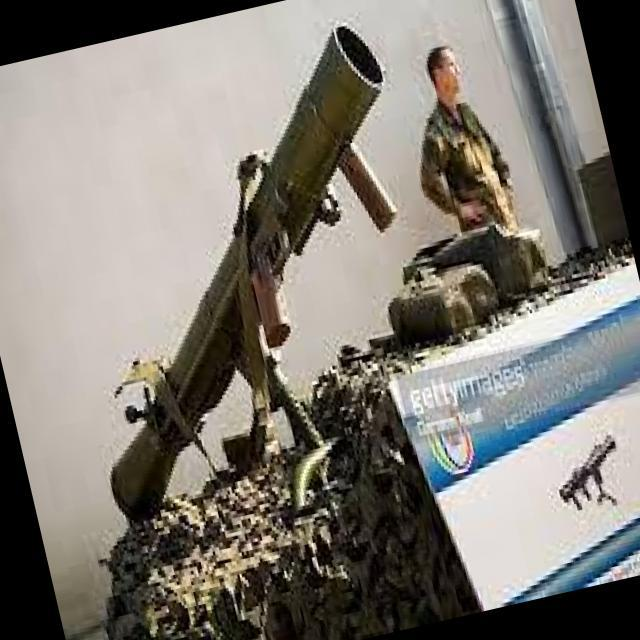rocket: (21, 16, 466, 522)
